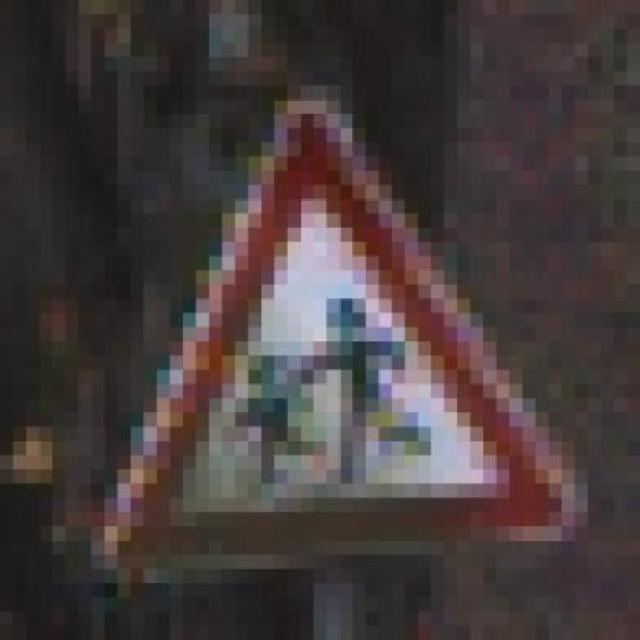Beware of children: (78, 99, 600, 584)
